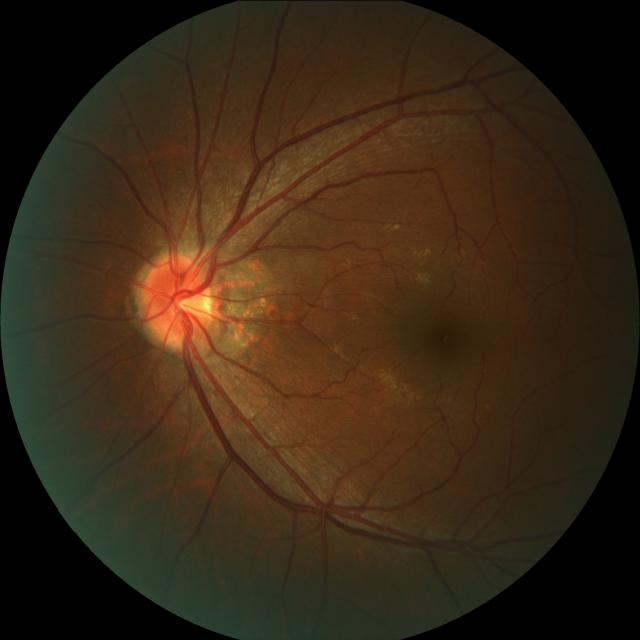OC: (167, 282, 206, 318)
OD: (141, 253, 216, 349)
